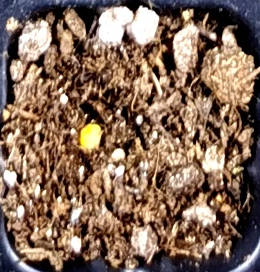pepper seed: (29, 49, 131, 198)
